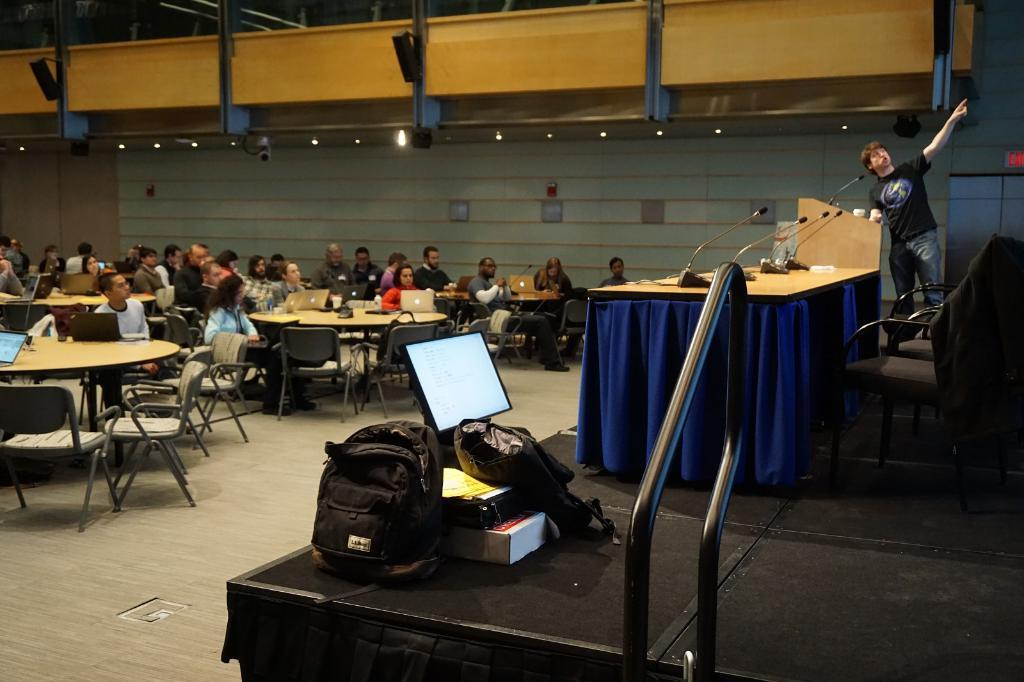Chair: (881, 239, 1019, 434), (0, 381, 123, 534), (109, 361, 211, 514), (110, 350, 211, 475), (164, 330, 254, 443), (345, 322, 438, 415), (275, 326, 359, 421), (548, 300, 585, 367), (159, 311, 204, 363), (0, 299, 52, 336), (485, 305, 514, 361), (145, 286, 178, 331), (172, 303, 205, 341), (451, 317, 489, 345)
